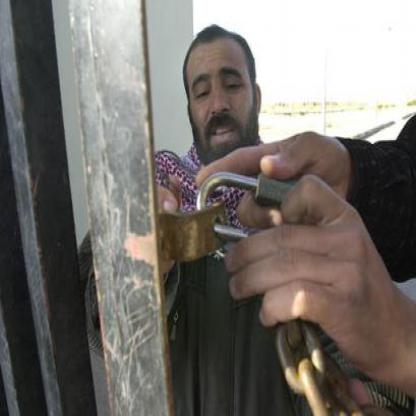face: (187, 30, 257, 169)
